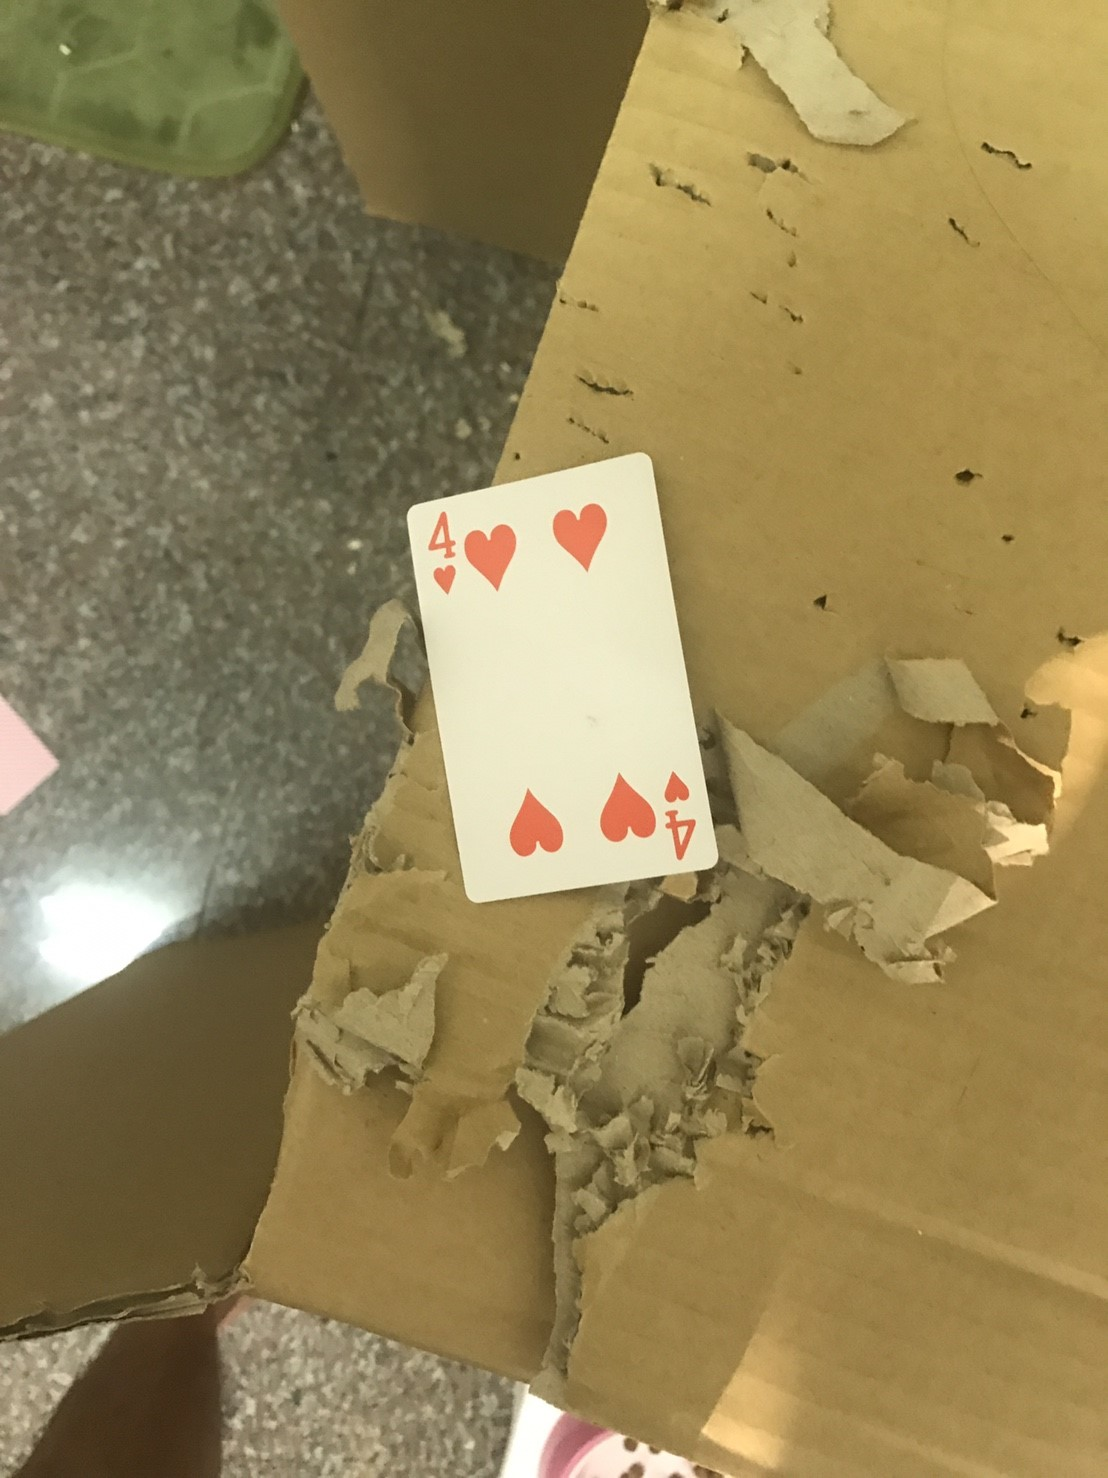hearts: (500, 781, 567, 859), (596, 776, 660, 843), (461, 526, 520, 597), (553, 504, 606, 566), (661, 766, 691, 806), (432, 561, 456, 587)
